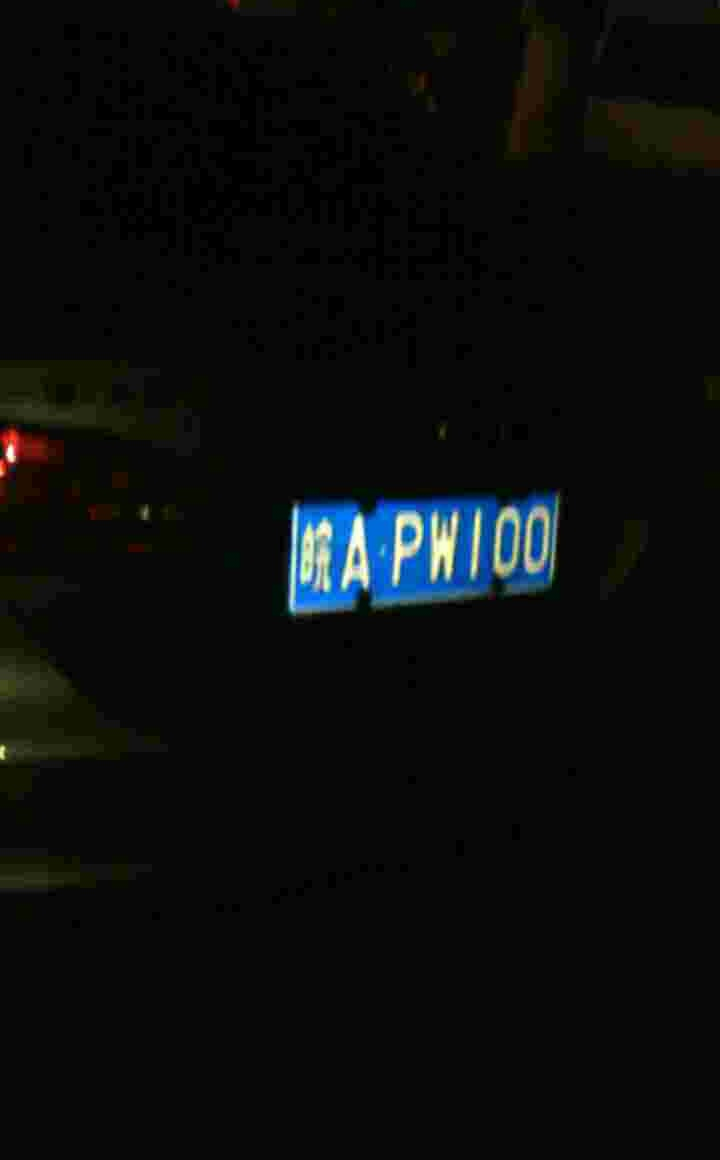license_plate: (291, 492, 565, 623)
